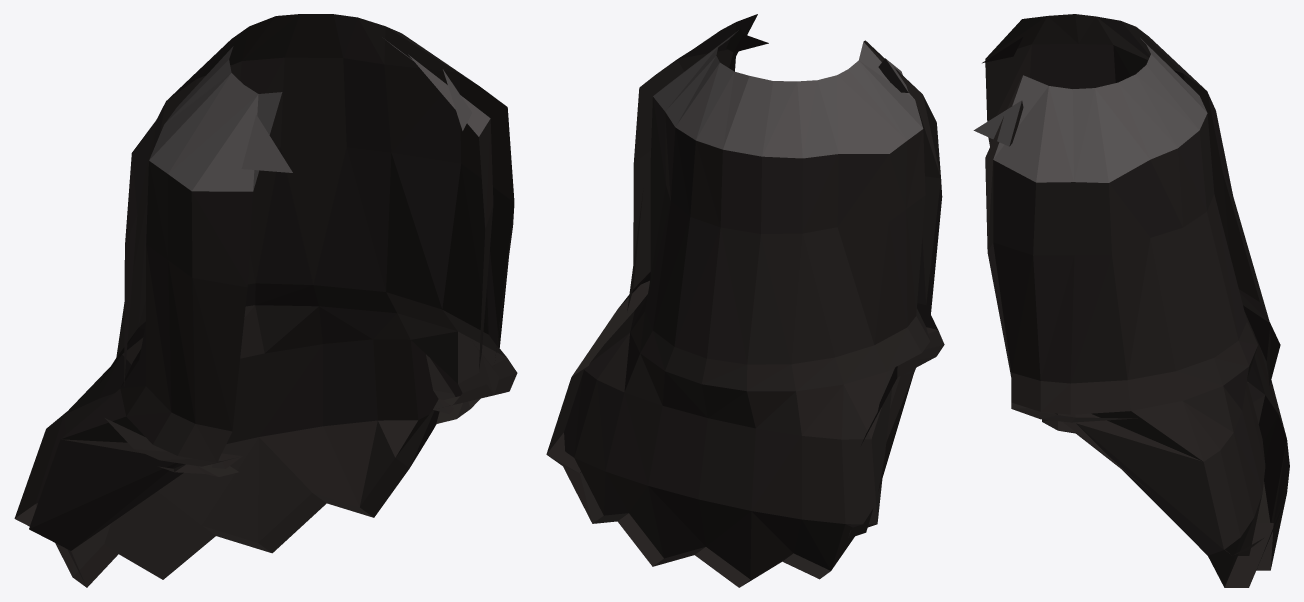
The model's file is hair_long_wavy_01_hatcut.glb.
The picture shows the model from 3 angles, left to right: view 1: azimuth 30°, elevation 25°; view 2: azimuth 150°, elevation 25°; view 3: azimuth 270°, elevation 25°; orthographic projection. The views are drawn at different scales.
Parts seen in each view (by area): view 1: hair_long_wavy_01_hatcut; view 2: hair_long_wavy_01_hatcut; view 3: hair_long_wavy_01_hatcut.
Part boxes in pixels (x1,y1,x2,y2): hair_long_wavy_01_hatcut: (14, 14, 517, 587); hair_long_wavy_01_hatcut: (546, 14, 944, 587); hair_long_wavy_01_hatcut: (973, 14, 1289, 587).
Bounding box in the file's own units: 0.3892 × 0.543 × 0.3107.
1 material, 1 textured.
